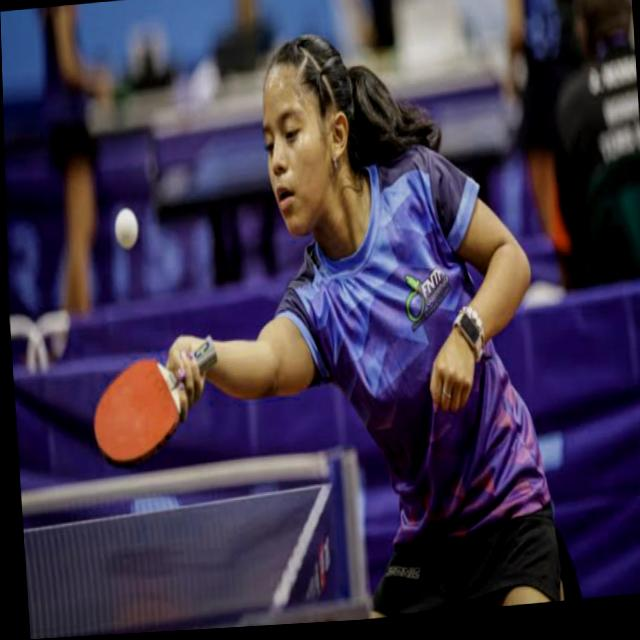TT Net: (20, 448, 369, 639)
TT Racket: (72, 334, 192, 483)
TT Table: (24, 481, 328, 639)
